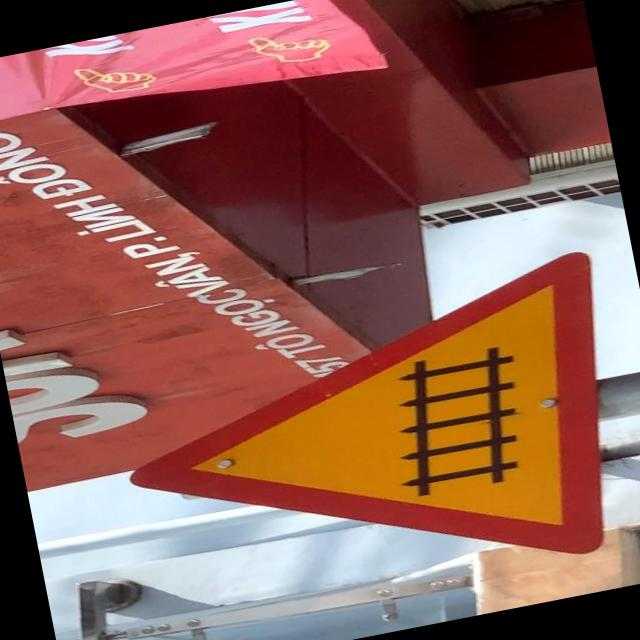W-210: (97, 247, 640, 640)
